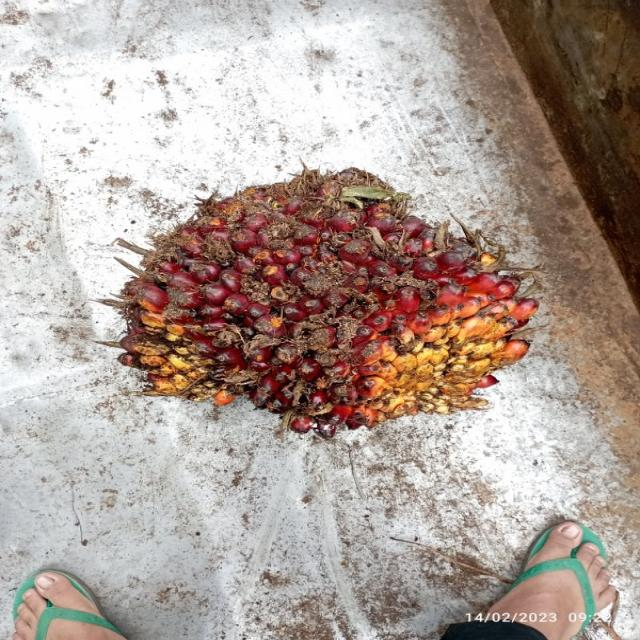fraksi 1: (38, 109, 599, 501)
